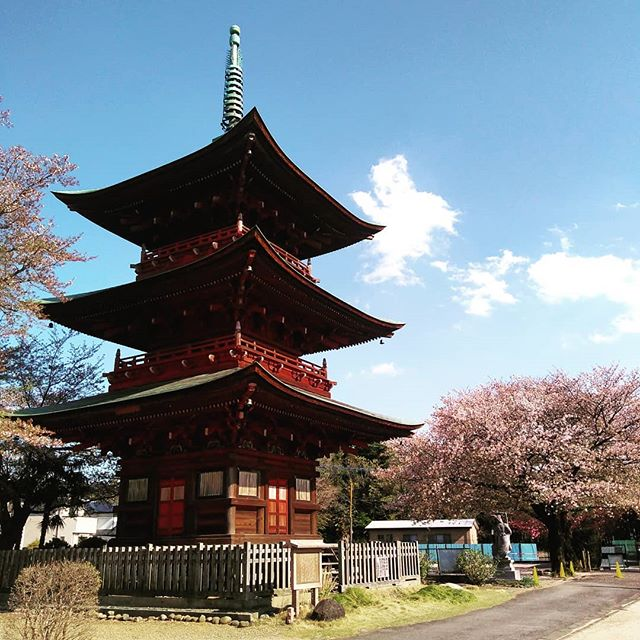building: (87, 131, 369, 603)
pathway: (378, 574, 640, 637)
sky: (47, 1, 616, 368)
tree: (382, 372, 640, 575), (1, 141, 92, 552)
